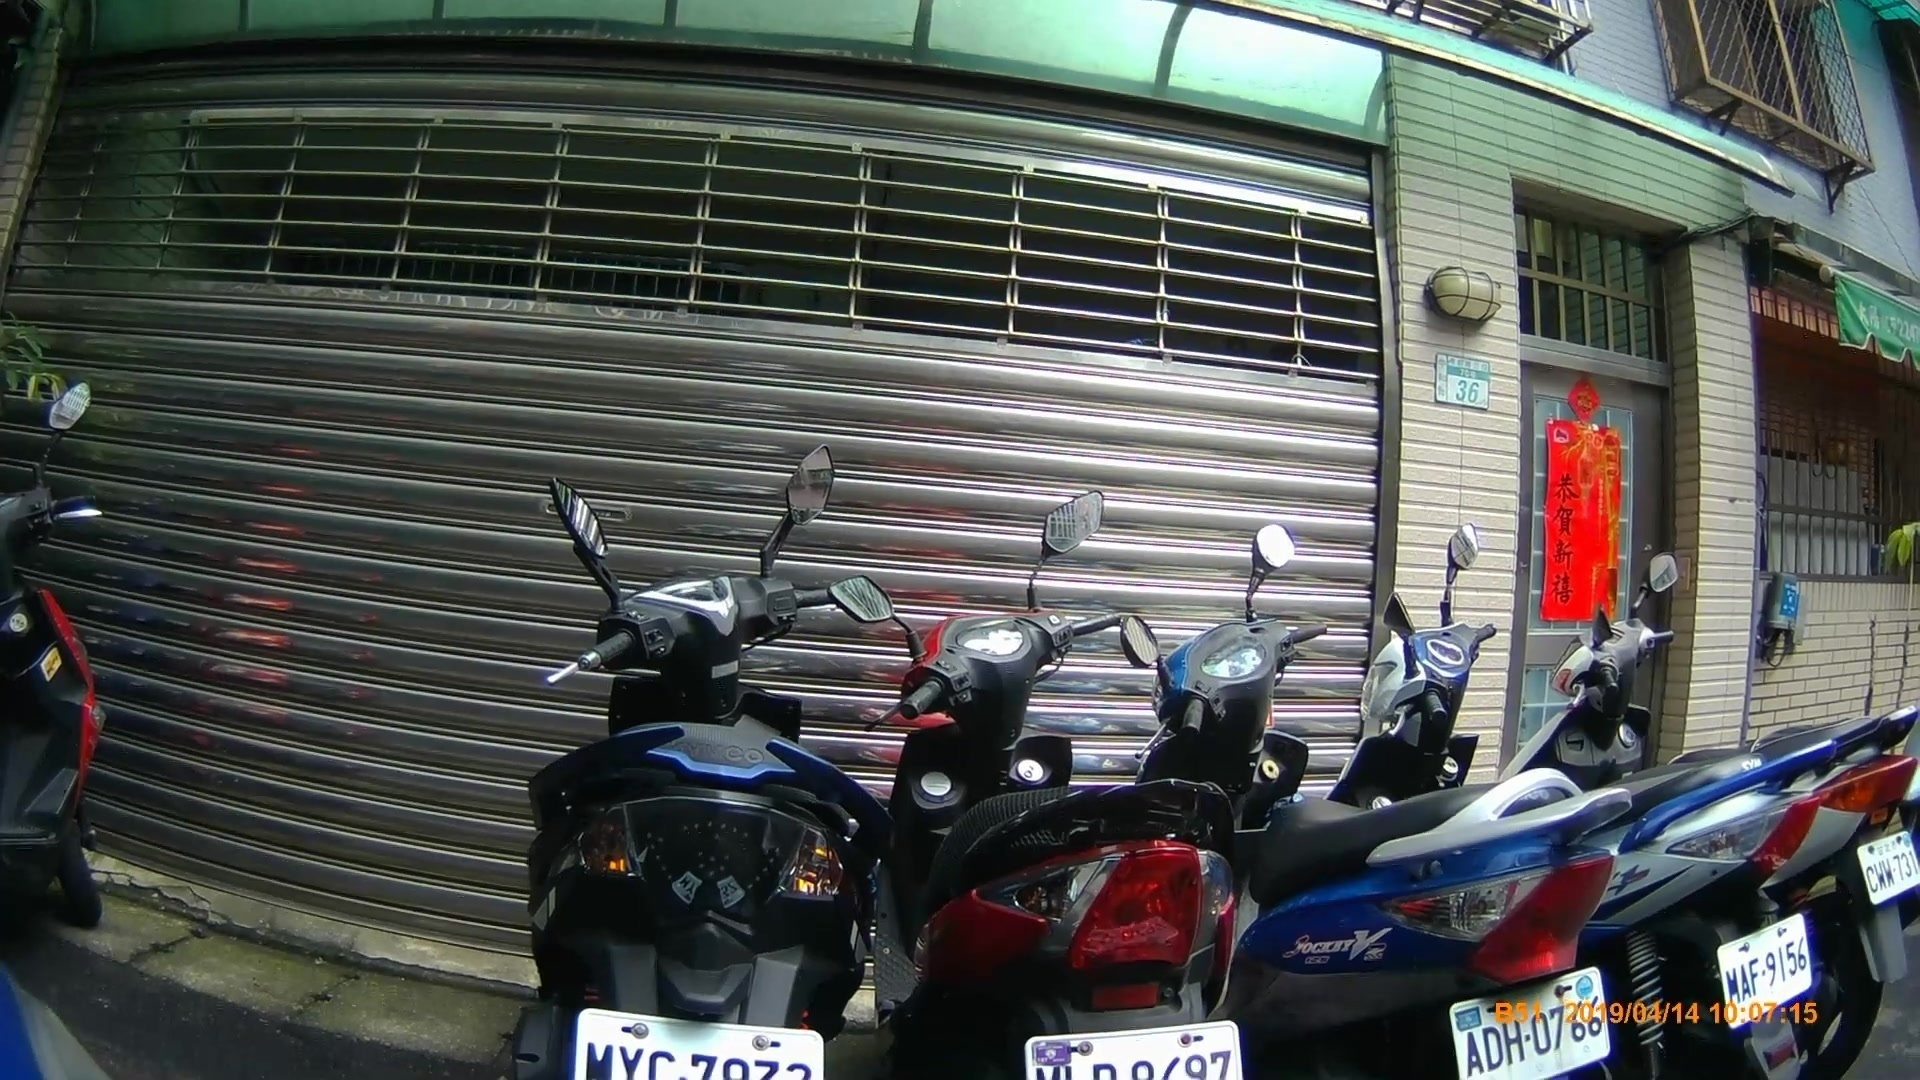License_plate: (573, 999, 837, 1080), (1439, 964, 1620, 1076), (1707, 909, 1820, 1027), (1025, 1021, 1247, 1080), (1845, 825, 1920, 905)
